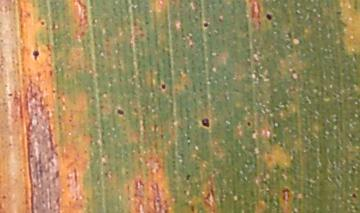tarspot: (198, 116, 211, 130), (71, 167, 79, 186), (30, 47, 40, 61), (280, 187, 290, 201), (114, 108, 126, 116), (185, 135, 192, 148), (44, 43, 53, 53), (185, 31, 194, 41), (184, 172, 192, 182), (264, 12, 272, 21), (152, 122, 158, 134), (160, 82, 167, 92), (54, 169, 61, 179), (245, 120, 252, 129), (201, 21, 210, 28), (216, 15, 223, 24), (36, 70, 42, 80), (39, 19, 46, 27), (47, 69, 54, 77), (286, 30, 292, 39), (350, 192, 357, 199), (349, 165, 356, 172), (1, 194, 9, 200), (335, 9, 341, 17), (6, 91, 13, 97), (3, 82, 9, 89), (159, 132, 165, 139), (180, 32, 186, 39), (46, 62, 53, 68), (46, 52, 52, 59), (188, 43, 194, 49), (64, 71, 69, 78), (144, 20, 149, 26), (56, 94, 61, 100), (51, 88, 56, 94), (179, 26, 184, 32), (194, 16, 198, 22)
